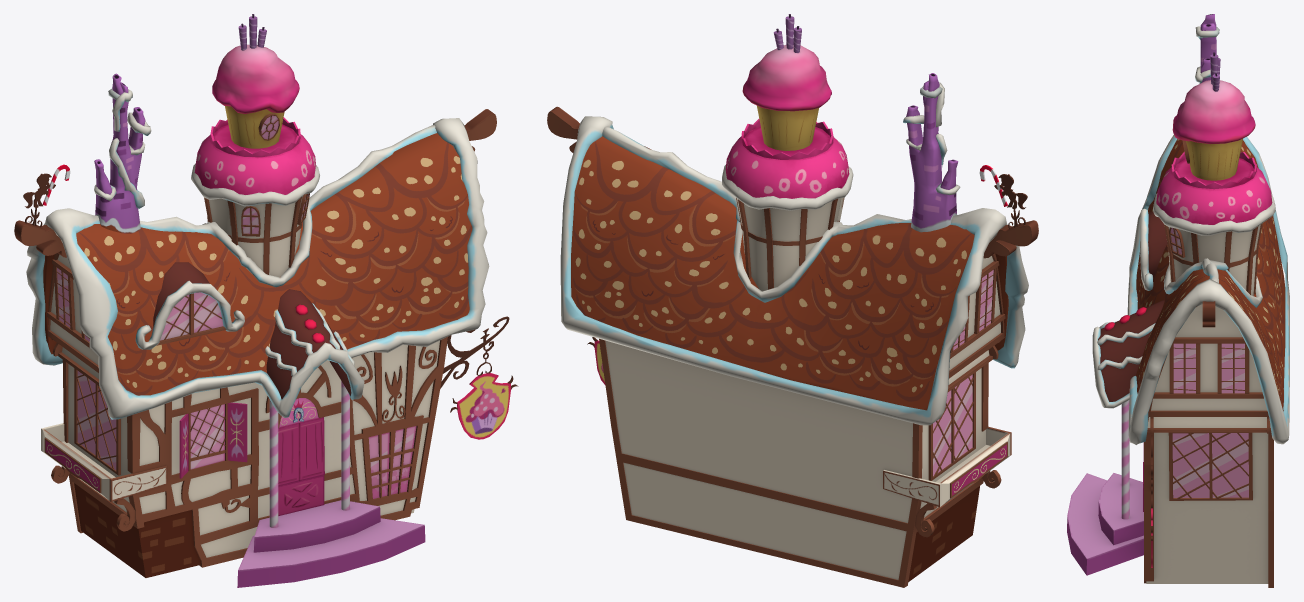
The model's file is house_sugar.glb.
3 renders of one model, left to right at view 1: azimuth 30°, elevation 25°; view 2: azimuth 150°, elevation 25°; view 3: azimuth 270°, elevation 25°, orthographic. The views are drawn at different scales.
Parts seen in each view (by area): view 1: Mesh_1, Mesh_2; view 2: Mesh_1, Mesh_2; view 3: Mesh_1, Mesh_2.
Part boxes in pixels (x1,y1,x2,y2): Mesh_1: (14, 15, 515, 587); Mesh_2: (24, 14, 518, 577); Mesh_1: (547, 15, 1038, 535); Mesh_2: (587, 14, 1026, 587); Mesh_1: (1067, 14, 1289, 574); Mesh_2: (1067, 52, 1273, 587).
Bounding box in the file's own units: 93.59 × 94.81 × 40.27.
1 material, 1 textured.
